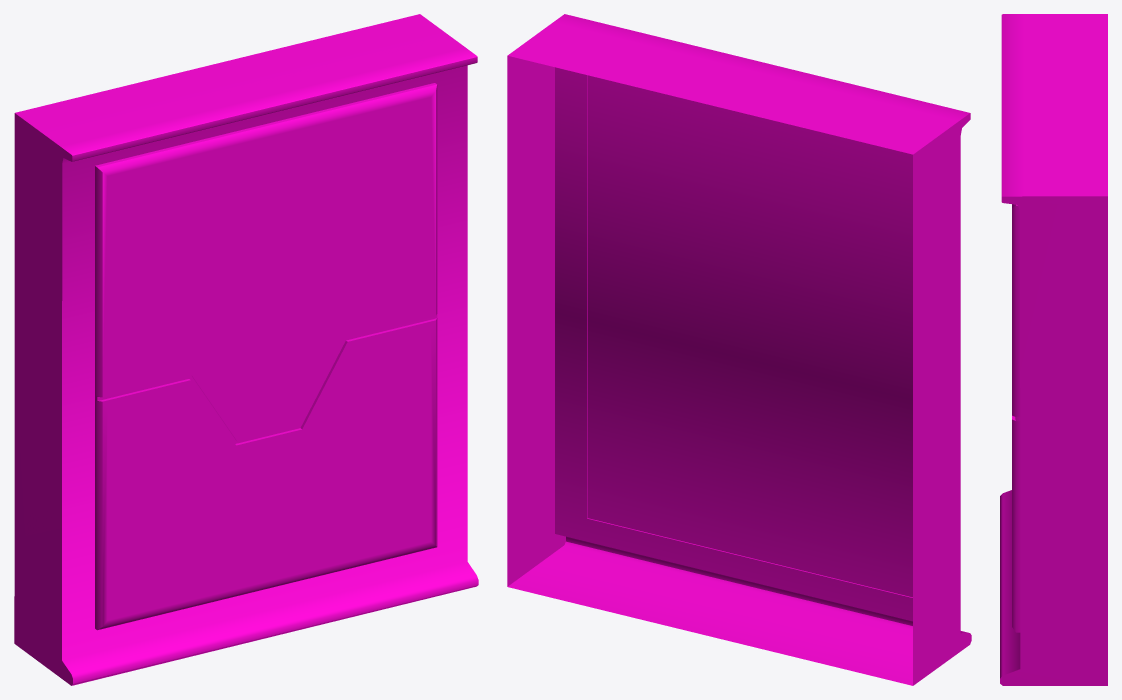
The model's file is pared5.fbx.
3 views of the same model, side by side, from view 1: azimuth 30°, elevation 25°; view 2: azimuth 150°, elevation 25°; view 3: azimuth 270°, elevation 25° (orthographic). The views are drawn at different scales.
Parts seen in each view (by area): view 1: 7; view 2: 7; view 3: 7.
Part boxes in pixels (x1=…): 7: x1=14, y1=14, x2=478, y2=685; 7: x1=507, y1=14, x2=971, y2=685; 7: x1=1000, y1=14, x2=1107, y2=685.
Size of the model in its own units: 200 by 250 by 49.99.
